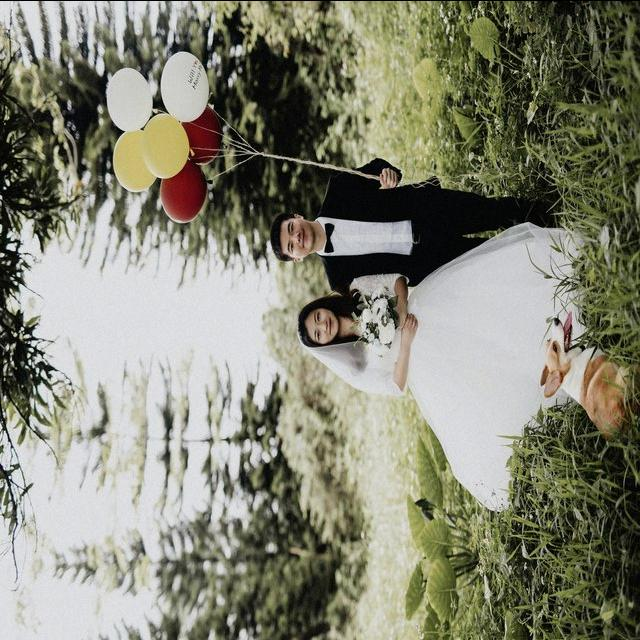corgi: (538, 311, 638, 440)
